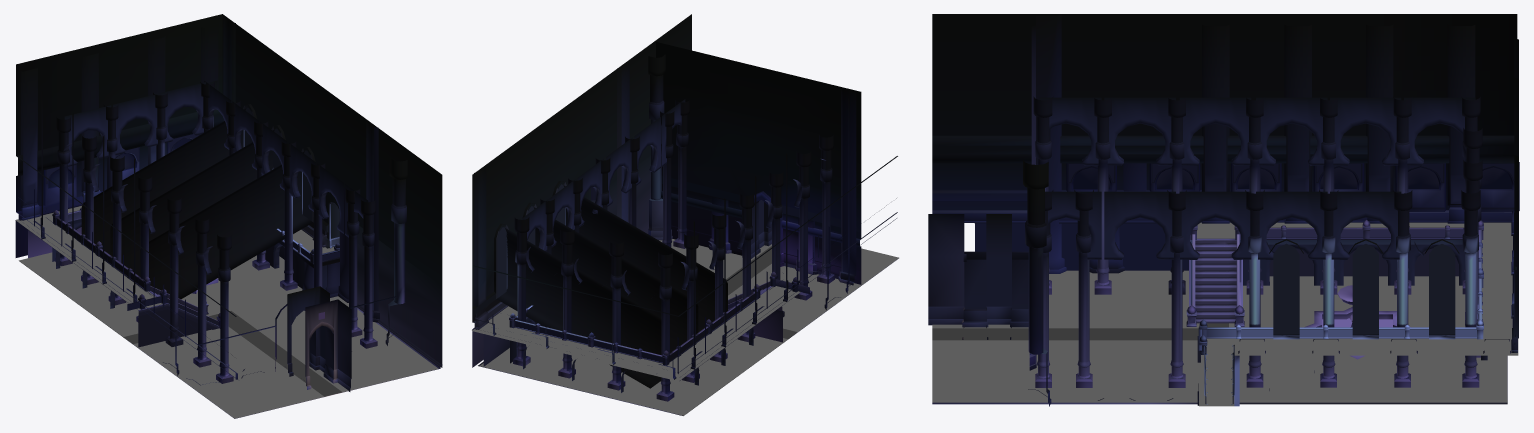
File: 04Interior.gltf
3 views of the same model, side by side, from view 1: azimuth 30°, elevation 25°; view 2: azimuth 150°, elevation 25°; view 3: azimuth 270°, elevation 25° (orthographic). The views are drawn at different scales.
Parts seen in each view (by area): view 1: stg070_o08_Mesh_0022, stg070_w05_Mesh_0000, stg070_k31_Mesh_0000, stg070_w08_Mesh_0001, stg070_o08_Mesh_0034, stg070_o08_Mesh_0049, stg070_o08_Mesh_0031, stg070_o31_Mesh_0045, stg070_o31_Mesh_0041, stg070_w05_Mesh_0000.001, stg070_o31_Mesh_0027, stg070_o08_Mesh_0037 (+4 smaller); view 2: stg070_o08_Mesh_0022, stg070_w08_Mesh_0001, stg070_k31_Mesh_0000, stg070_o08_Mesh_0049, stg070_o08_Mesh_0034, stg070_w05_Mesh_0000, stg070_w05_Mesh_0000.001, stg070_o08_Mesh_0039, stg070_o31_Mesh_0045, stg070_o31_Mesh_0041, stg070_o08_Mesh_0031, stg070_p31_Mesh_0001 (+5 smaller); view 3: stg070_o08_Mesh_0022, stg070_o08_Mesh_0034, stg070_w05_Mesh_0000, stg070_o08_Mesh_0049, stg070_o08_Mesh_0031, stg070_w08_Mesh_0001, stg070_w05_Mesh_0000.001, stg070_o31_Mesh_0045, stg070_g31_Mesh_0000, stg070_o31_Mesh_0041, stg070_p31_Mesh_0001, stg070_o08_Mesh_0037 (+4 smaller).
Boxes of the visible parts, box(x1,y1,x2,y2) form: stg070_o08_Mesh_0022: box(18, 17, 442, 376); stg070_w05_Mesh_0000: box(19, 252, 438, 418); stg070_k31_Mesh_0000: box(81, 108, 312, 299); stg070_w08_Mesh_0001: box(19, 14, 442, 378); stg070_o08_Mesh_0034: box(15, 14, 389, 372); stg070_o08_Mesh_0049: box(16, 49, 442, 396); stg070_o08_Mesh_0031: box(16, 87, 442, 378); stg070_o31_Mesh_0045: box(18, 104, 406, 382); stg070_o31_Mesh_0041: box(55, 82, 407, 383); stg070_w05_Mesh_0000.001: box(15, 206, 334, 309); stg070_o31_Mesh_0027: box(138, 267, 442, 367); stg070_o08_Mesh_0037: box(21, 190, 351, 387); stg070_o08_Mesh_0022: box(472, 75, 861, 370); stg070_w08_Mesh_0001: box(472, 14, 861, 415); stg070_k31_Mesh_0000: box(496, 185, 727, 388); stg070_o08_Mesh_0049: box(472, 49, 897, 397); stg070_o08_Mesh_0034: box(472, 42, 861, 367); stg070_w05_Mesh_0000: box(480, 239, 898, 415); stg070_w05_Mesh_0000.001: box(472, 286, 800, 381); stg070_o08_Mesh_0039: box(730, 102, 795, 208); stg070_o31_Mesh_0045: box(472, 100, 861, 400); stg070_o31_Mesh_0041: box(513, 54, 834, 401); stg070_o08_Mesh_0031: box(472, 119, 788, 368); stg070_p31_Mesh_0001: box(515, 279, 809, 362); stg070_o08_Mesh_0022: box(932, 14, 1519, 396); stg070_o08_Mesh_0034: box(932, 14, 1517, 401); stg070_w05_Mesh_0000: box(932, 270, 1507, 402); stg070_o08_Mesh_0049: box(928, 111, 1517, 406); stg070_o08_Mesh_0031: box(928, 120, 1517, 337); stg070_w08_Mesh_0001: box(964, 100, 1507, 405); stg070_w05_Mesh_0000.001: box(1197, 222, 1518, 406); stg070_o31_Mesh_0045: box(932, 140, 1519, 386); stg070_g31_Mesh_0000: box(1273, 243, 1455, 334); stg070_o31_Mesh_0041: box(1023, 96, 1482, 387); stg070_p31_Mesh_0001: box(1206, 230, 1476, 337); stg070_o08_Mesh_0037: box(928, 207, 1517, 349).
Size of the model in its own units: 66.33 by 42.33 by 86.54.
